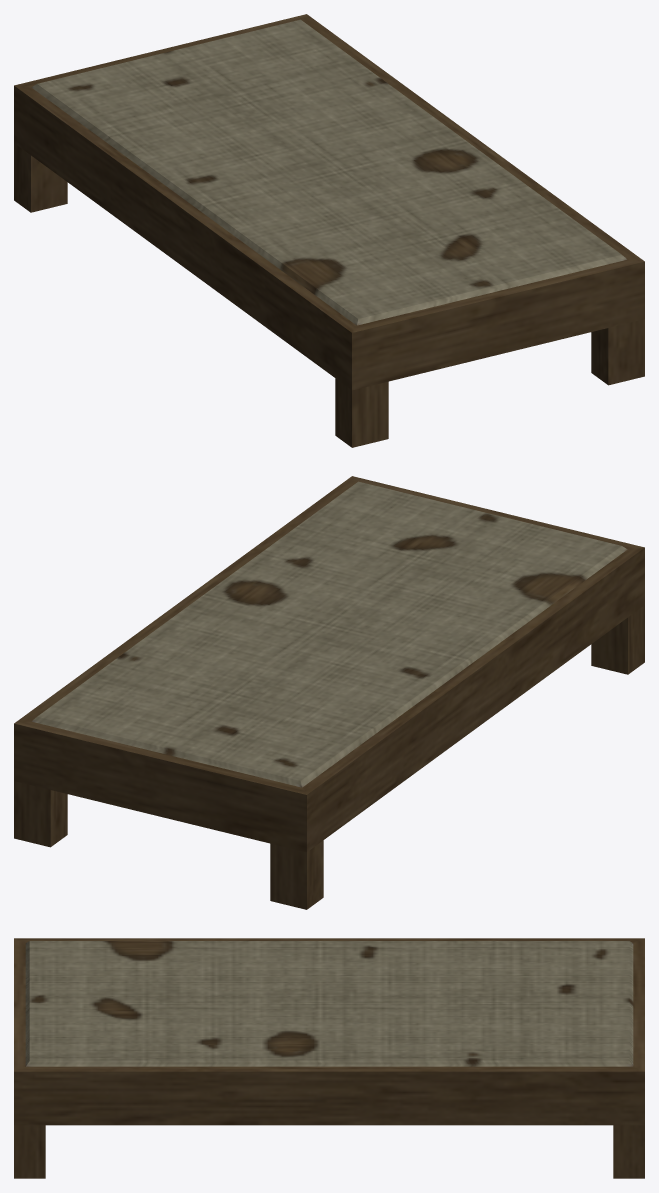
Rendered from sb_obj_indoor035_Prison01_bed01.fbx.
3 renders of one model, top to bottom at view 1: azimuth 30°, elevation 25°; view 2: azimuth 150°, elevation 25°; view 3: azimuth 270°, elevation 25°, orthographic. The views are drawn at different scales.
Visible parts, largest first — view 1: sb_obj_indoor035_Prison01_bed01; view 2: sb_obj_indoor035_Prison01_bed01; view 3: sb_obj_indoor035_Prison01_bed01.
Part boxes in pixels (box(x1,y1,x2,y2)): sb_obj_indoor035_Prison01_bed01: box(14, 14, 644, 447); sb_obj_indoor035_Prison01_bed01: box(14, 476, 644, 909); sb_obj_indoor035_Prison01_bed01: box(14, 938, 644, 1178).
Size of the model in its own units: 0.8 by 0.3111 by 1.6.
